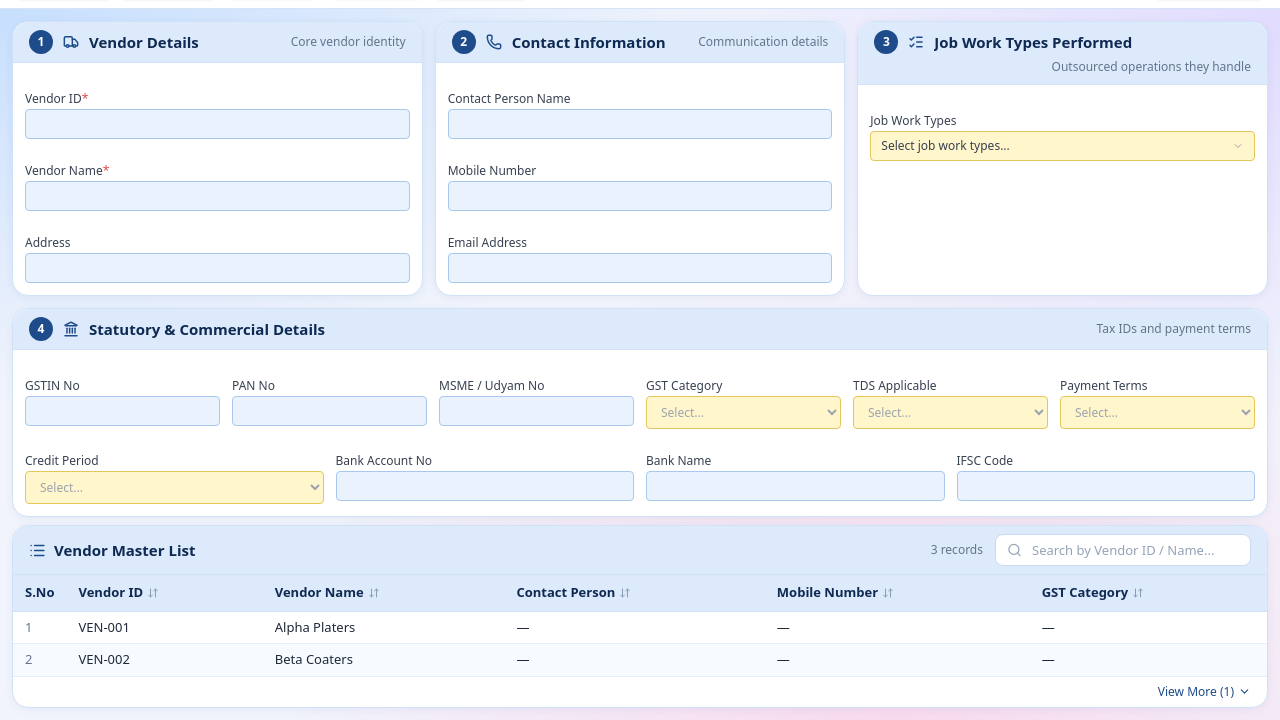
Test: Vendor Master credit period › shows the saved value on edit, even one outside the built-ins
(page scrolled)
Click the text "VEN-001". click: (104, 626)
box: [66,611,263,644]
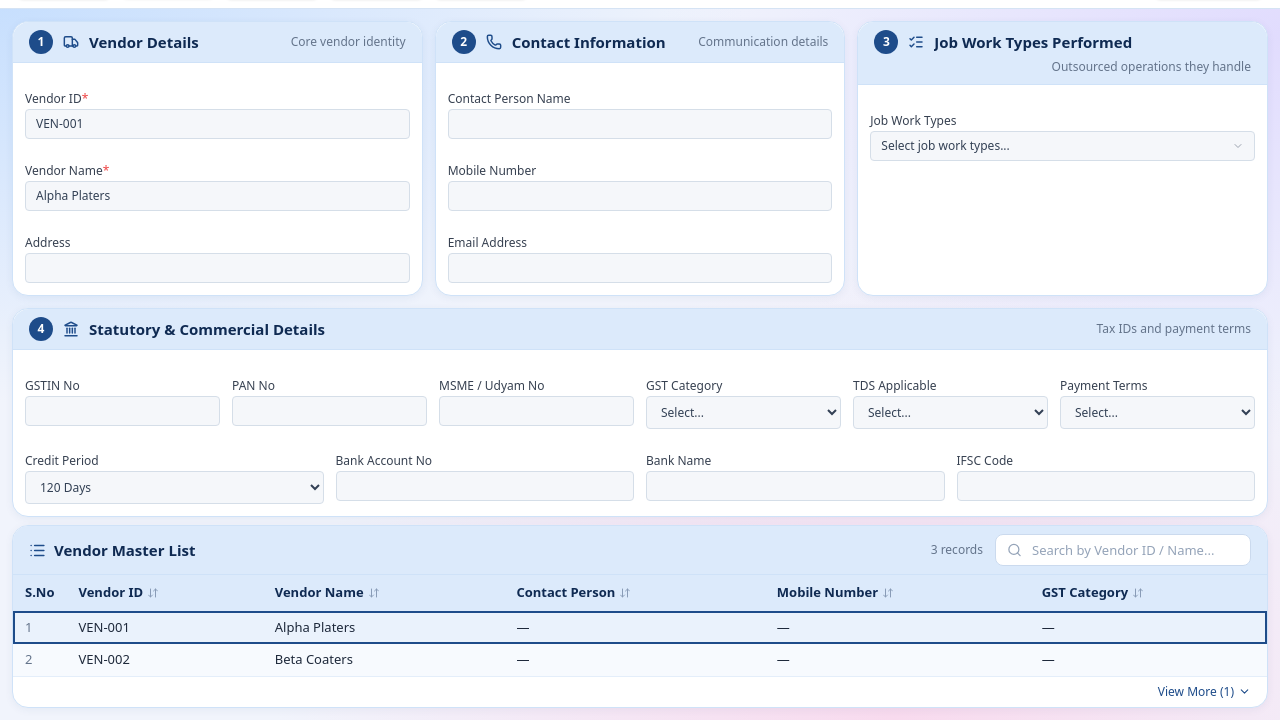
Result: the dropdown labelled "Credit Period" shows "120 Days" at [25,471,324,504]
